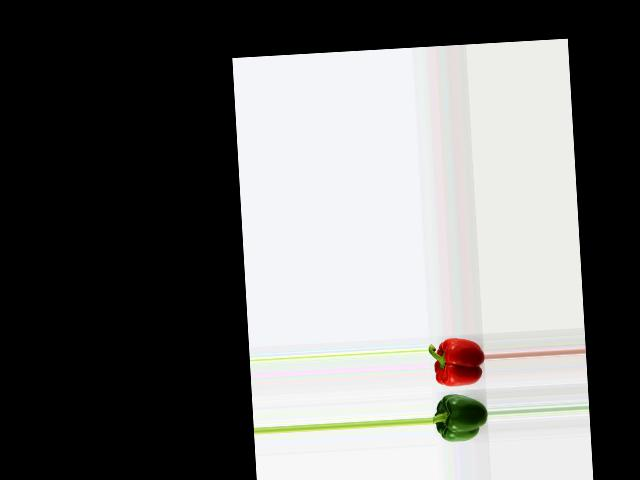bell_pepper: (432, 390, 486, 444)
